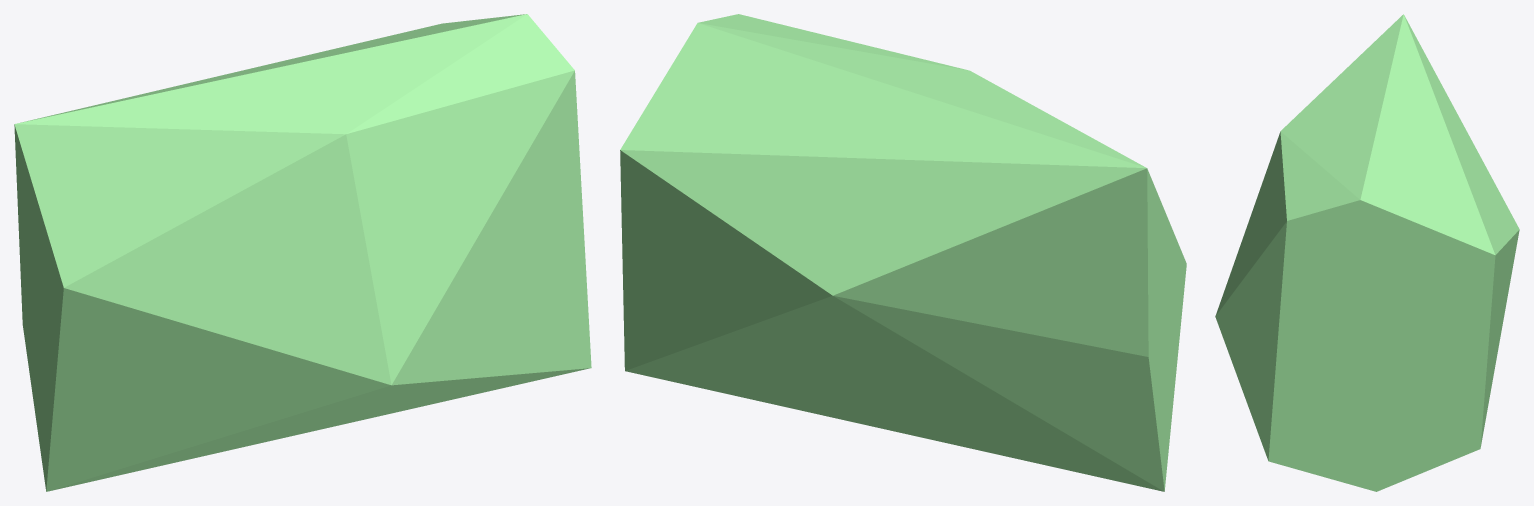
Rendered from dxxx_Lp11_respondable_PSM1_coll_2.dae.
The picture shows the model from 3 angles, left to right: view 1: azimuth 30°, elevation 25°; view 2: azimuth 150°, elevation 25°; view 3: azimuth 270°, elevation 25°; orthographic projection. The views are drawn at different scales.
Parts seen in each view (by area): view 1: Node_000001D818CBD260; view 2: Node_000001D818CBD260; view 3: Node_000001D818CBD260.
Boxes of the visible parts, x1=… form: Node_000001D818CBD260: x1=14, y1=14, x2=591, y2=491; Node_000001D818CBD260: x1=620, y1=14, x2=1186, y2=491; Node_000001D818CBD260: x1=1215, y1=14, x2=1519, y2=491.
Bounding box in the file's own units: 0.0255 × 0.0178 × 0.0166.
